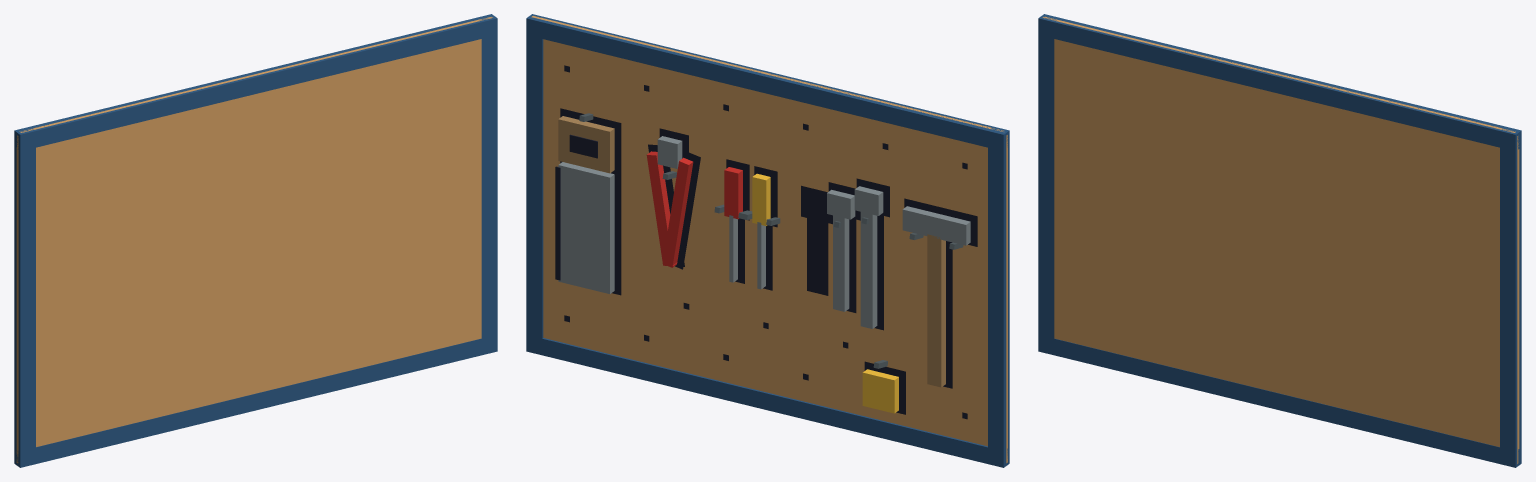
File: sm_env_depot_tool_board.glb
3 renders of one model, left to right at view 1: azimuth 30°, elevation 25°; view 2: azimuth 150°, elevation 25°; view 3: azimuth 330°, elevation 25°, orthographic.
Parts seen in each view (by area): view 1: Board, BoardEdge.003, BoardEdge.002, BoardEdge, BoardEdge.001; view 2: Board, BoardEdge.003, BoardEdge.002, Tool.013, BoardEdge, BoardEdge.001, Tool, Tool.014, Tool.002, Silhouette.006, Tool.001, Tool.004 (+22 smaller); view 3: Board, BoardEdge.003, BoardEdge.002, BoardEdge.001, BoardEdge.
Boxes of the visible parts, x1,y1,x2,y2 form: Board: [16, 17, 492, 463]; BoardEdge.003: [14, 18, 497, 151]; BoardEdge.002: [14, 335, 497, 467]; BoardEdge: [14, 126, 35, 467]; BoardEdge.001: [476, 14, 497, 354]; Board: [531, 16, 1007, 463]; BoardEdge.003: [526, 18, 1009, 151]; BoardEdge.002: [527, 336, 1009, 467]; Tool.013: [558, 162, 614, 293]; BoardEdge: [988, 126, 1009, 463]; BoardEdge.001: [526, 14, 547, 354]; Tool: [927, 234, 945, 387]; Tool.014: [558, 116, 614, 173]; Tool.002: [860, 201, 877, 328]; Silhouette.006: [807, 198, 828, 295]; Tool.001: [902, 206, 970, 245]; Tool.004: [833, 205, 849, 311]; Board: [1042, 16, 1519, 463]; BoardEdge.003: [1038, 18, 1521, 151]; BoardEdge.002: [1038, 336, 1521, 467]; BoardEdge.001: [1500, 126, 1521, 462]; BoardEdge: [1038, 14, 1059, 355].
Bounding box in the file's own units: 1.2 × 0.8 × 0.0625.
